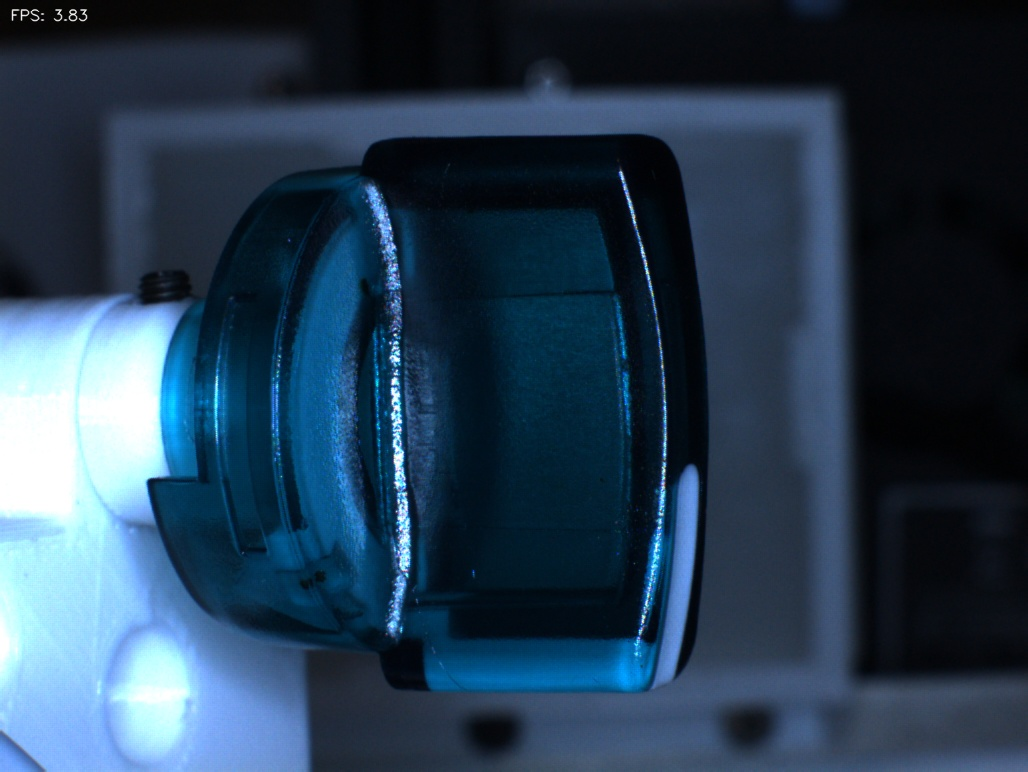PointNoir: (331, 255, 404, 327)
